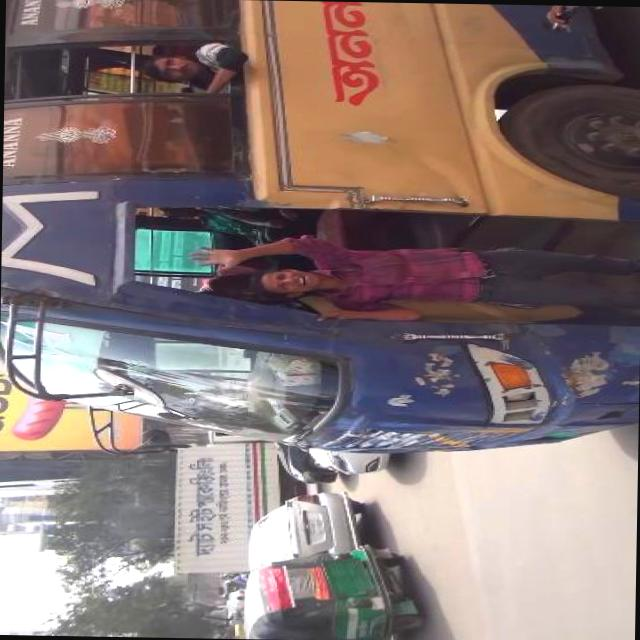bus: (0, 0, 640, 459)
car: (240, 490, 370, 577), (303, 442, 398, 477), (264, 437, 330, 485)
motorcycle: (233, 544, 417, 640)
truck: (170, 424, 295, 578)
